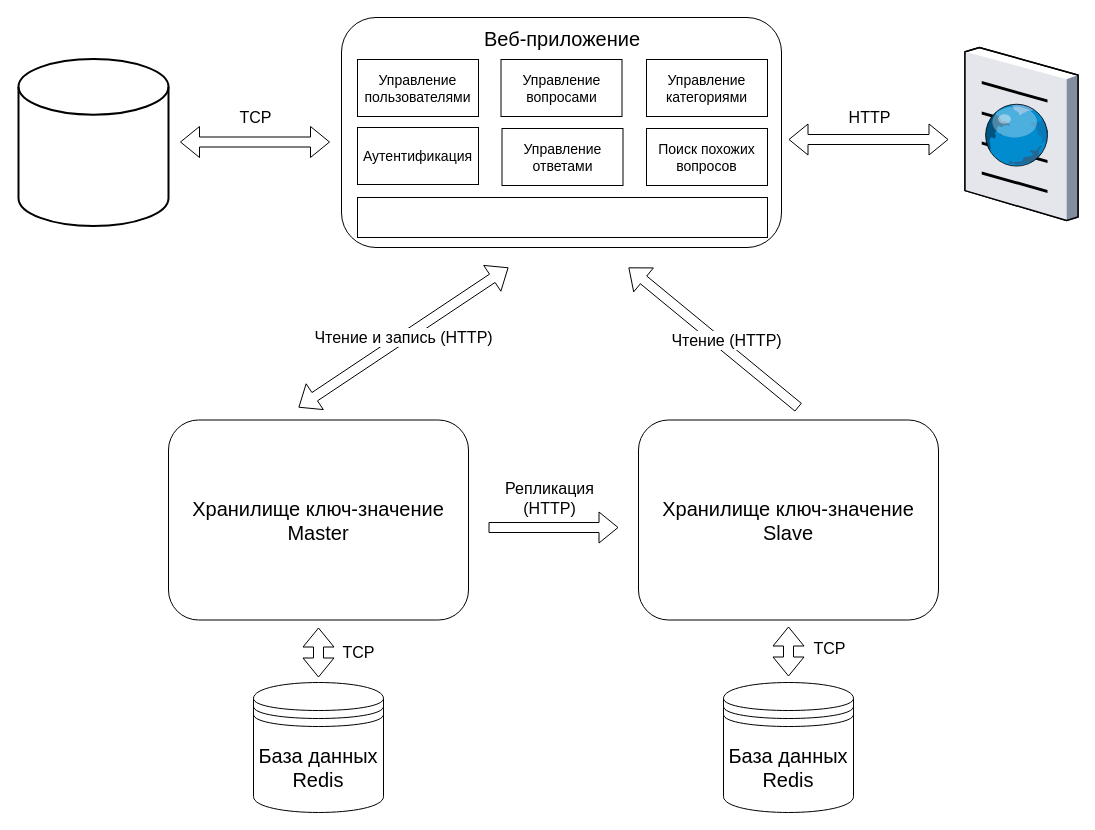
The diagram is 1095 pixels wide and 830 high, and some of its shapes have lost their labels. The centre of each missing label's shape, as x and y in pixels:
База данных MySQL: pixel 93 142
Браузер: pixel 1021 133
Интерфейс взаимодействия с API: pixel 562 217
